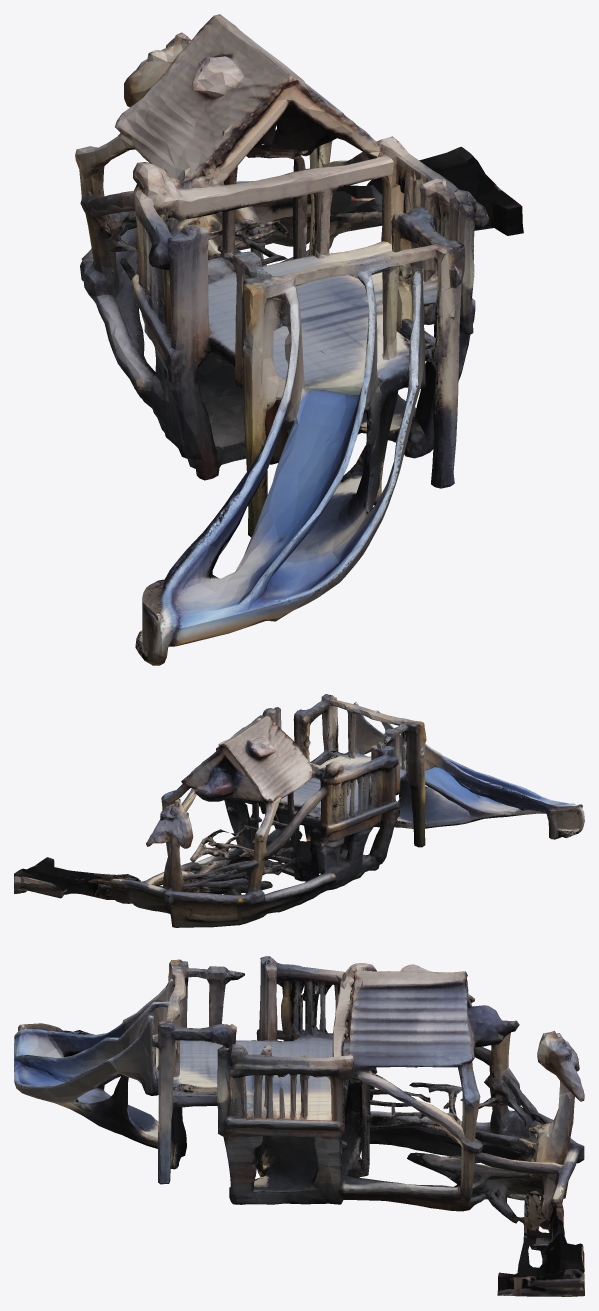
The model's file is reconviagen_pointcloud_ship.glb.
3 renders of one model, top to bottom at view 1: azimuth 30°, elevation 25°; view 2: azimuth 150°, elevation 25°; view 3: azimuth 270°, elevation 25°, orthographic. The views are drawn at different scales.
Visible parts, largest first — view 1: world; view 2: world; view 3: world.
Part boxes in pixels (bbox=[...]): world: bbox=[75, 14, 523, 665]; world: bbox=[14, 694, 584, 927]; world: bbox=[14, 956, 584, 1296].
Bounding box in the file's own units: 0.9938 × 0.4241 × 1.
Materials: 1 (1 with a texture image).
